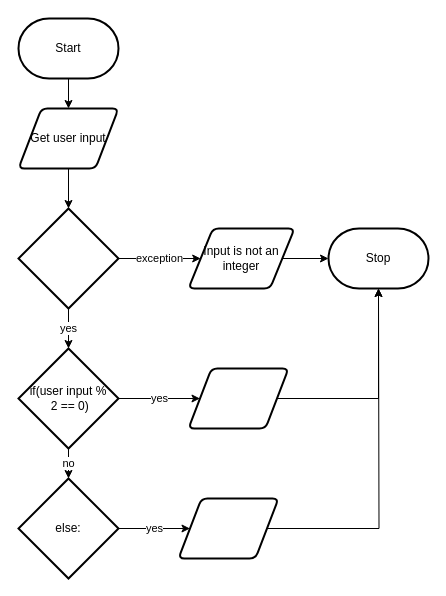
Image size: 446x596. Some labels were removed from this diagram. The box of each missing label's shape, as (x1, y1, x2, y2) in pixels:
Try: (17, 207, 119, 309)
{0} is an even number: (187, 367, 289, 429)
{0} is an odd number: (177, 497, 279, 559)
